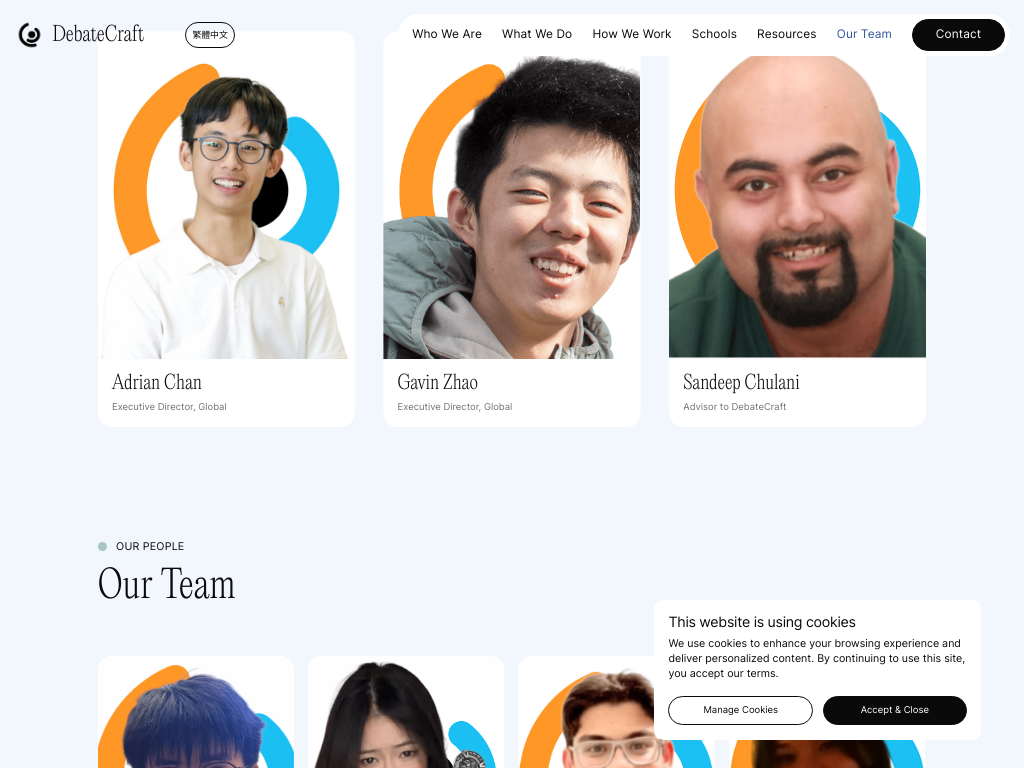
Test: a current member card opens their real biography without website or LinkedIn buttons
(page scrolled)
Click the button with aria-label "View biography for Adrian Chan": (157, 384) [112,374,202,395]
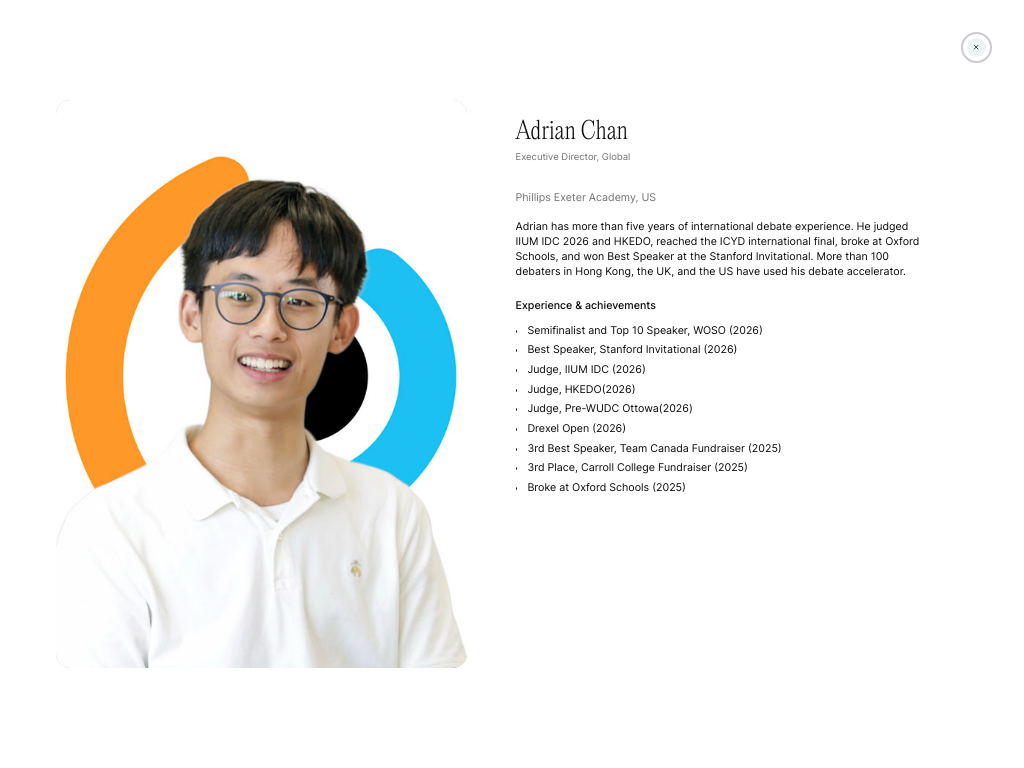
Result: the text "Adrian has more than five years of international debate experience. He judged IIUM IDC 2026 and HKEDO, reached the ICYD " is shown at [516,220,919,278]
Result: the text "Executive Director, Global" is shown at [516,151,630,162]
Result: the text "Phillips Exeter Academy, US" is shown at [516,191,656,204]
Click the button named "Close biography": (977, 47) [967,38,986,57]
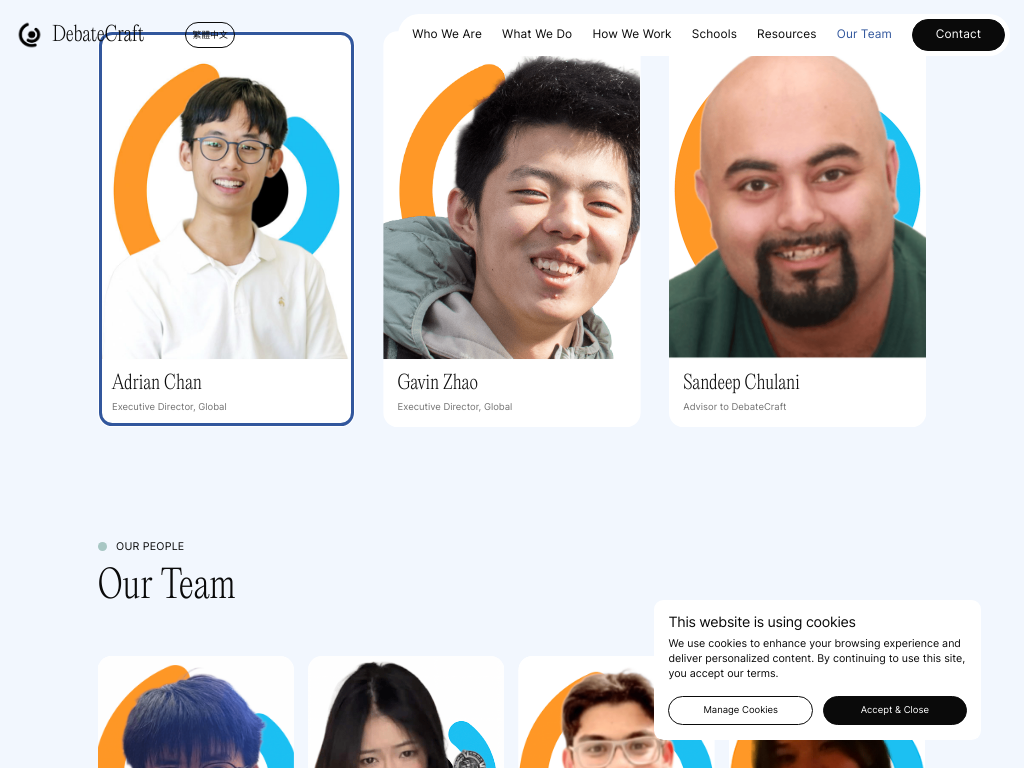
Result: the dialog is gone
